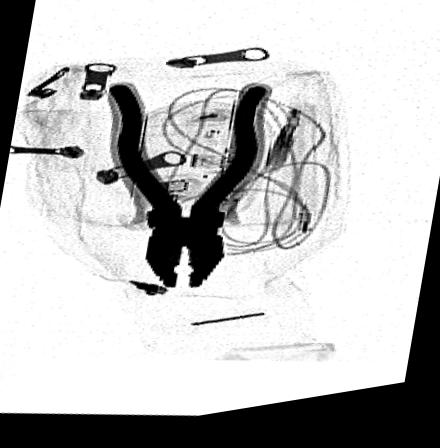Pliers: (103, 86, 280, 297)
